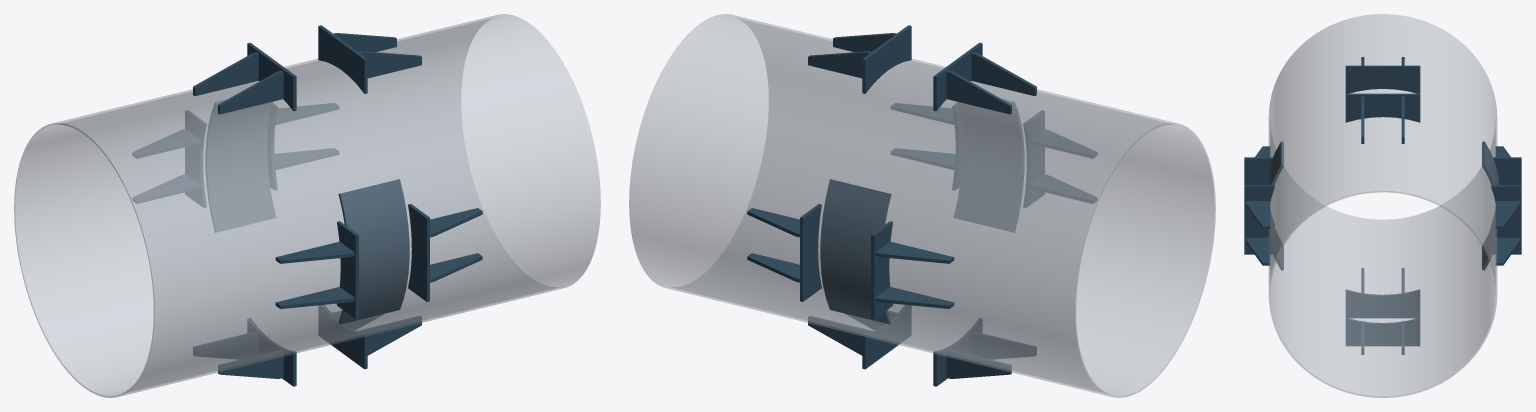
File: TS-668.00.00-11-opora-dn1220-ris1.glb
3 views of the same model, side by side, from view 1: azimuth 30°, elevation 25°; view 2: azimuth 150°, elevation 25°; view 3: azimuth 270°, elevation 25° (orthographic). The views are drawn at different scales.
Parts seen in each view (by area): view 1: truba, bok_26, bok_25, upor_7, upor_1, upor_13, upor_10, upor_6, upor_5, upor_17, upor_22, upor_18 (+14 smaller); view 2: truba, bok_25, bok_26, upor_19, upor_1, upor_13, upor_22, upor_5, upor_6, upor_18, upor_10, upor_17 (+14 smaller); view 3: truba, upor_16, upor_4, upor_1, upor_13, upor_7, upor_19, bok_25, bok_26, upor_10, upor_22, upor_9 (+3 smaller).
Boxes of the visible parts, bbox=[...] form: truba: bbox=[14, 14, 600, 397]; bok_26: bbox=[205, 99, 275, 232]; bok_25: bbox=[338, 179, 409, 324]; upor_7: bbox=[408, 204, 429, 301]; upor_1: bbox=[318, 25, 367, 93]; upor_13: bbox=[318, 305, 367, 369]; upor_10: bbox=[337, 221, 358, 319]; upor_6: bbox=[218, 70, 283, 114]; upor_5: bbox=[193, 52, 258, 96]; upor_17: bbox=[218, 350, 283, 378]; upor_22: bbox=[185, 110, 206, 207]; upor_18: bbox=[193, 331, 258, 359]; truba: bbox=[629, 14, 1215, 397]; bok_25: bbox=[954, 99, 1024, 232]; bok_26: bbox=[820, 179, 891, 324]; upor_19: bbox=[800, 204, 821, 301]; upor_1: bbox=[862, 25, 911, 93]; upor_13: bbox=[862, 305, 911, 369]; upor_22: bbox=[871, 221, 892, 319]; upor_5: bbox=[946, 70, 1011, 114]; upor_6: bbox=[971, 52, 1036, 96]; upor_18: bbox=[946, 350, 1011, 378]; upor_10: bbox=[1023, 110, 1044, 207]; upor_17: bbox=[971, 331, 1036, 359]; truba: bbox=[1268, 14, 1497, 397]; upor_16: bbox=[1345, 289, 1420, 318]; upor_4: bbox=[1345, 65, 1420, 93]; upor_1: bbox=[1345, 93, 1420, 122]; upor_13: bbox=[1345, 317, 1420, 346]; upor_7: bbox=[1244, 185, 1274, 254]; upor_19: bbox=[1491, 185, 1521, 254]; bok_25: bbox=[1266, 141, 1283, 270]; bok_26: bbox=[1482, 141, 1499, 270]; upor_10: bbox=[1244, 157, 1274, 225]; upor_22: bbox=[1491, 157, 1521, 225]; upor_9: bbox=[1246, 237, 1270, 265].
Bounding box in the file's own units: 2232 × 1481 × 1481.
